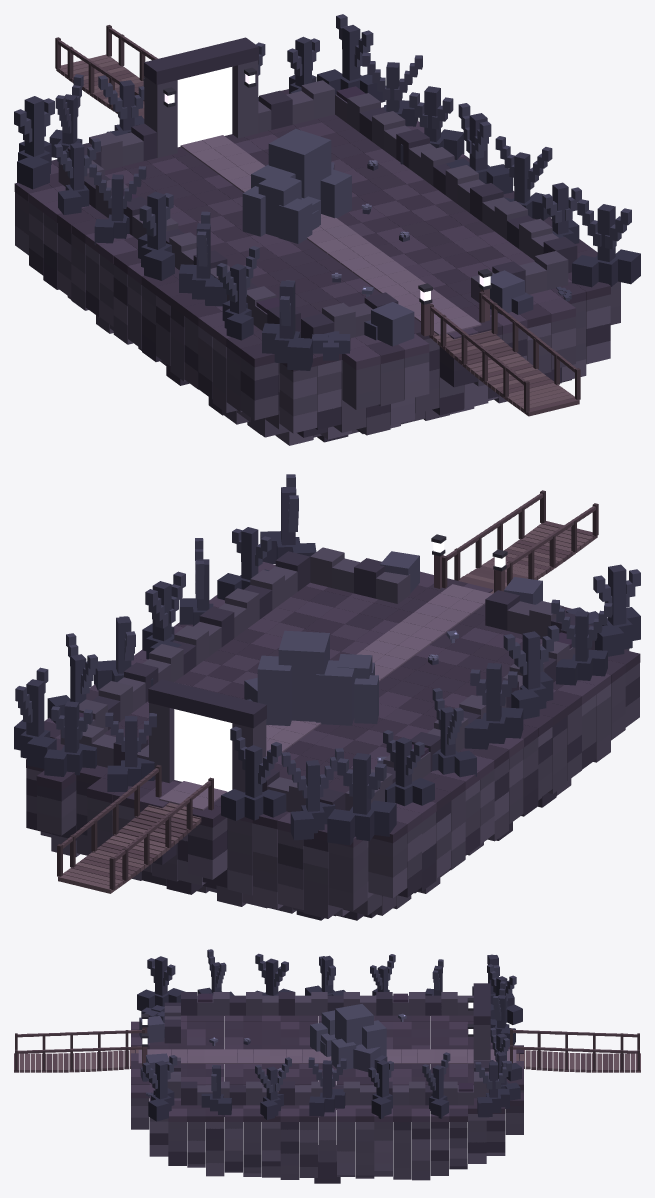
File: room_rock_polluted.glb
3 renders of one model, top to bottom at view 1: azimuth 30°, elevation 25°; view 2: azimuth 150°, elevation 25°; view 3: azimuth 270°, elevation 25°, orthographic. The views are drawn at different scales.
Visible parts, largest first — view 1: room_rock_blocks, rock_outcrop_(0, 0).001, rock_outcrop_(0, 0).002, tree1_(0, 0).001, tree0_(0, 0).003, tree0_(0, 0).001, tree0_(0, 0).002, tree1_(0, 0).003, tree2_(0, 0).001, tree1_(0, 0).002, tree4_(0, 0).001, tree2_(0, 0).002 (+11 smaller); view 2: room_rock_blocks, rock_outcrop_(0, 0).001, tree0_(0, 0).003, tree5_(0, 0).003, tree0_(0, 0).002, tree4_(0, 0).001, tree0_(0, 0).001, tree2_(0, 0).001, tree2_(0, 0).003, tree1_(0, 0).003, tree0_(0, 0).004, tree1_(0, 0).004 (+11 smaller); view 3: room_rock_blocks, rock_outcrop_(0, 0).001, tree1_(0, 0).002, tree1_(0, 0).001, tree0_(0, 0).001, tree1_(0, 0).003, tree5_(0, 0).001, tree3_(0, 0).002, tree5_(0, 0).002, tree4_(0, 0).001, tree2_(0, 0).003, tree3_(0, 0).001 (+11 smaller).
Boxes of the visible parts, bbox=[...] form: room_rock_blocks: bbox=[14, 25, 620, 445]; rock_outcrop_(0, 0).001: bbox=[251, 128, 351, 225]; rock_outcrop_(0, 0).002: bbox=[242, 173, 318, 243]; tree1_(0, 0).001: bbox=[572, 199, 640, 287]; tree0_(0, 0).003: bbox=[14, 96, 54, 189]; tree0_(0, 0).001: bbox=[262, 280, 312, 370]; tree0_(0, 0).002: bbox=[138, 191, 174, 280]; tree1_(0, 0).003: bbox=[317, 14, 385, 102]; tree2_(0, 0).001: bbox=[216, 246, 259, 340]; tree1_(0, 0).002: bbox=[446, 103, 512, 193]; tree4_(0, 0).001: bbox=[179, 211, 226, 306]; tree2_(0, 0).002: bbox=[89, 164, 146, 245]; room_rock_blocks: bbox=[26, 490, 640, 920]; rock_outcrop_(0, 0).001: bbox=[257, 630, 354, 725]; tree0_(0, 0).003: bbox=[327, 753, 396, 845]; tree5_(0, 0).003: bbox=[221, 726, 286, 820]; tree0_(0, 0).002: bbox=[464, 663, 523, 749]; tree4_(0, 0).001: bbox=[503, 625, 559, 719]; tree0_(0, 0).001: bbox=[593, 564, 640, 656]; tree2_(0, 0).001: bbox=[551, 599, 612, 685]; tree2_(0, 0).003: bbox=[281, 748, 343, 840]; tree1_(0, 0).003: bbox=[14, 667, 56, 768]; tree0_(0, 0).004: bbox=[44, 701, 96, 776]; tree1_(0, 0).004: bbox=[105, 712, 156, 791]; room_rock_blocks: bbox=[14, 983, 640, 1183]; rock_outcrop_(0, 0).001: bbox=[321, 1004, 386, 1069]; tree1_(0, 0).002: bbox=[308, 1057, 346, 1117]; tree1_(0, 0).001: bbox=[142, 1055, 177, 1121]; tree0_(0, 0).001: bbox=[137, 956, 185, 1010]; tree1_(0, 0).003: bbox=[475, 1061, 511, 1117]; tree5_(0, 0).001: bbox=[255, 1057, 291, 1119]; tree3_(0, 0).002: bbox=[368, 1060, 393, 1118]; tree5_(0, 0).002: bbox=[422, 1052, 450, 1118]; tree4_(0, 0).001: bbox=[255, 953, 295, 995]; tree2_(0, 0).003: bbox=[487, 964, 522, 1024]; tree3_(0, 0).001: bbox=[201, 1065, 231, 1116].
Size of the model in its own units: 17.99 by 12.1 by 38.5.
